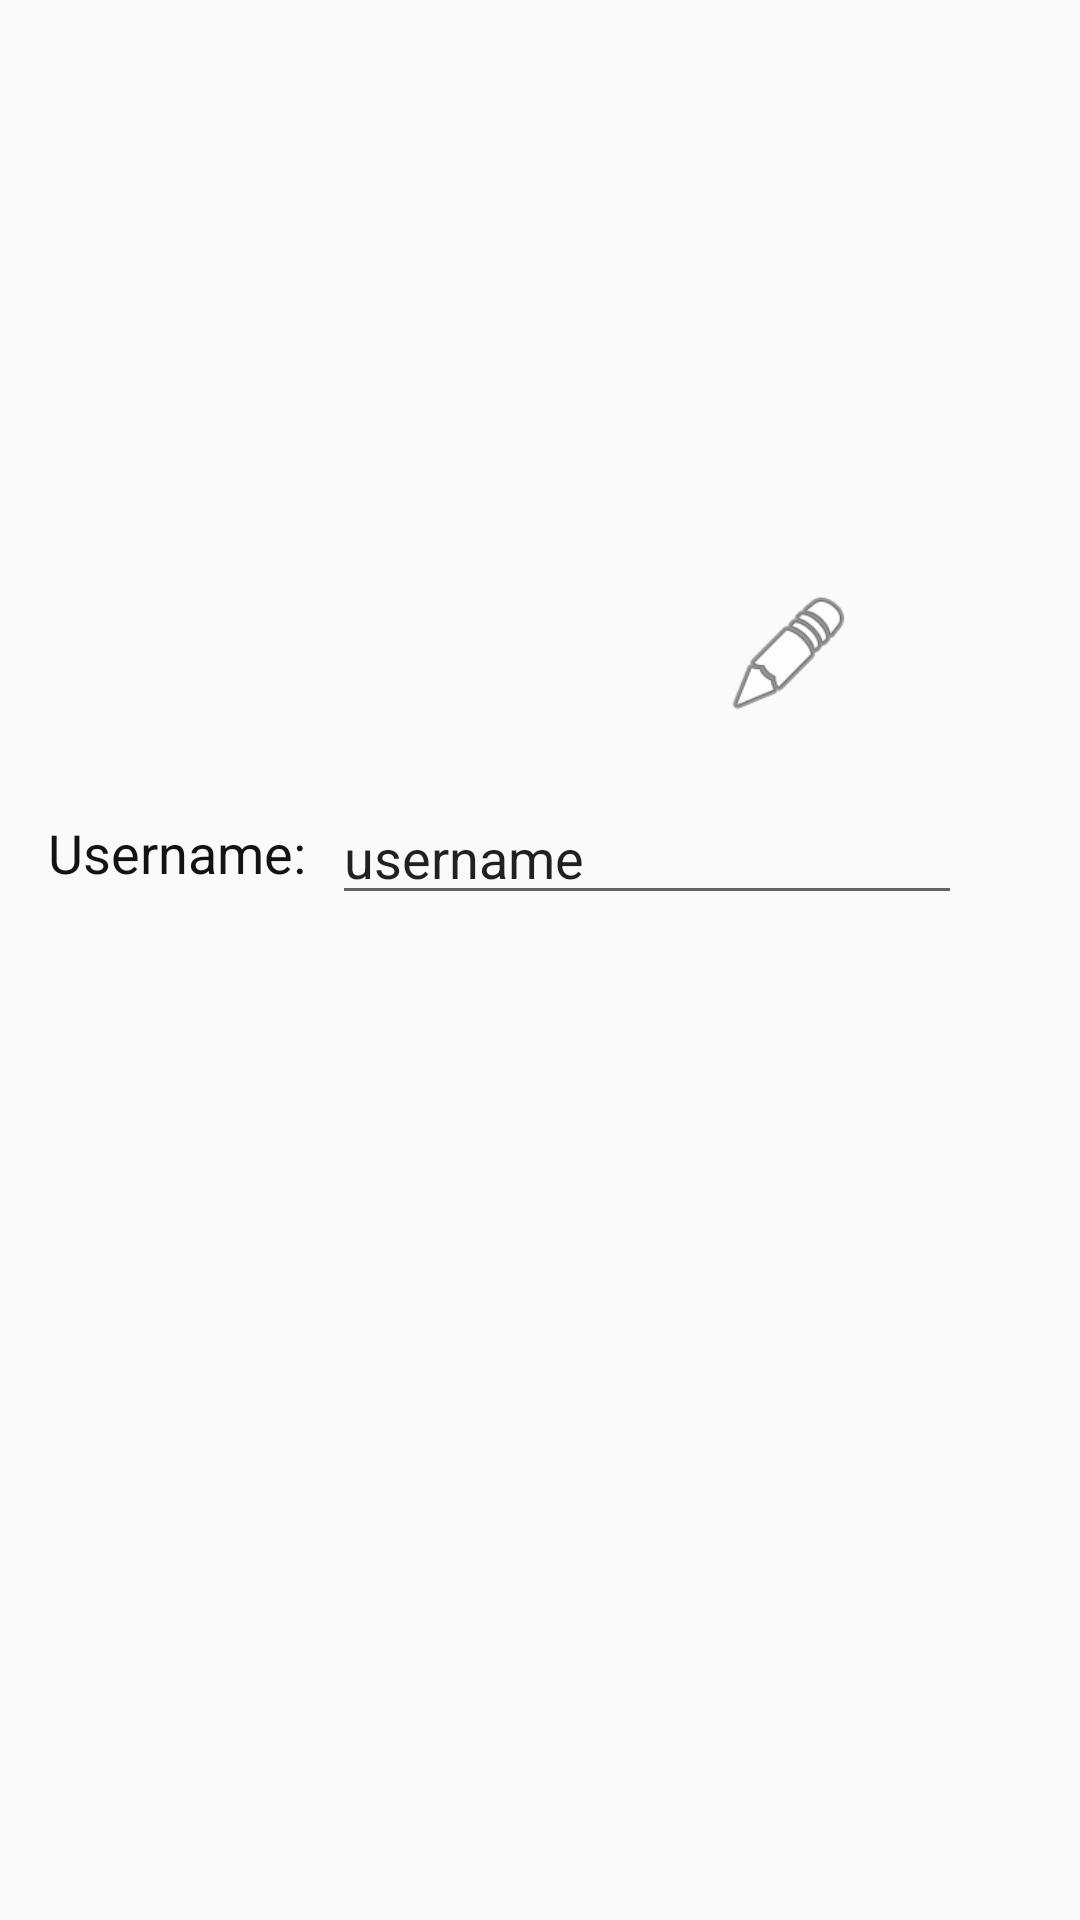

Where to tap for icons on this 1080px x 1920px app screen, as (x,y):
edit: (788,653)
